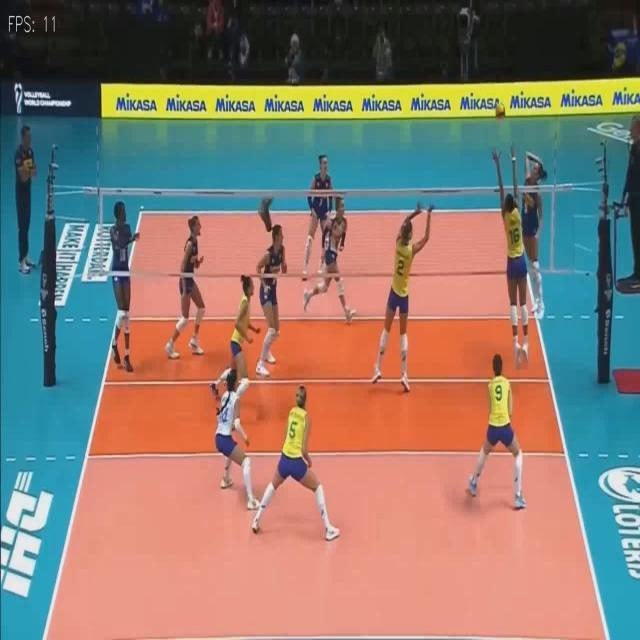volleyball: (495, 103, 506, 120)
